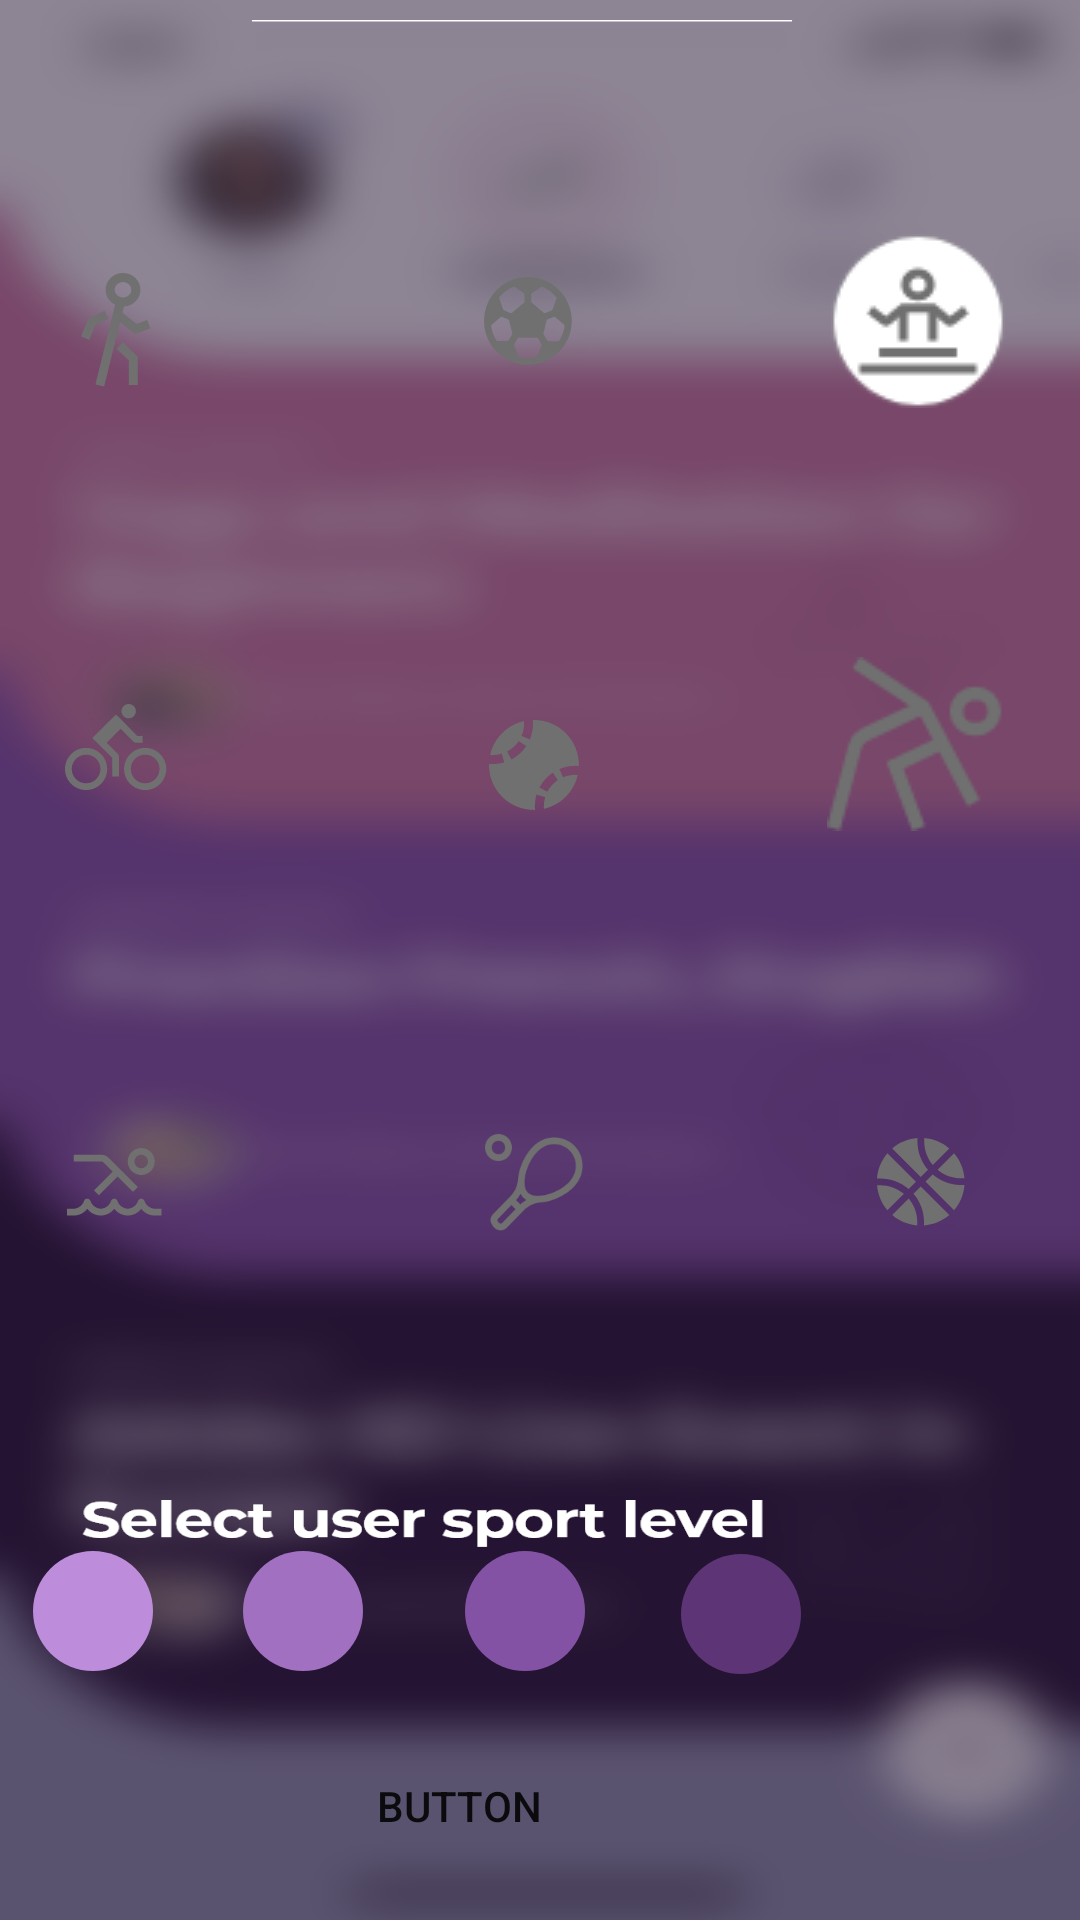

Icons on this 1080 x 1920 Android screen, each with the point to tap as (x,y):
stretching: (914,743)
yoga: (918,321)
